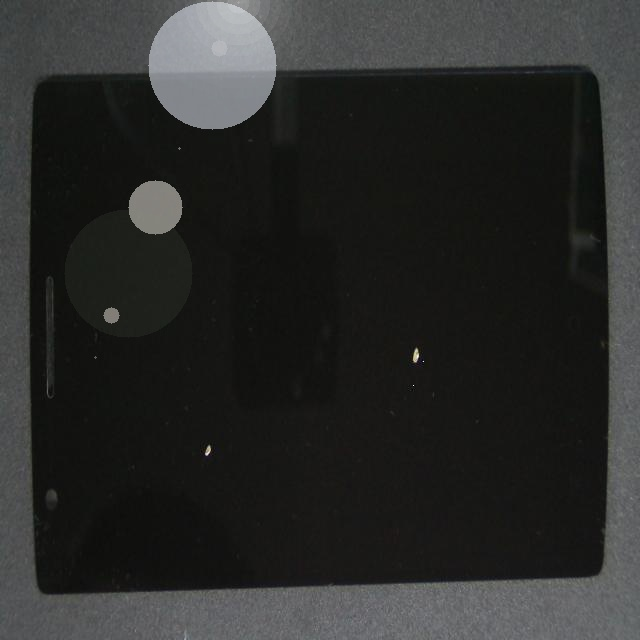stain: (207, 195, 620, 586), (90, 193, 293, 640)
